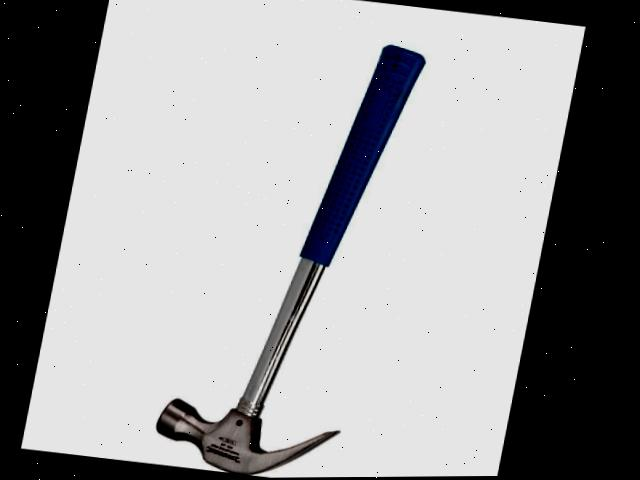hammer: (146, 18, 438, 479)
